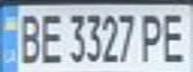2: (100, 10, 121, 63)
3: (63, 10, 87, 64), (81, 9, 103, 63)
7: (118, 9, 139, 63)
B: (12, 9, 45, 65)
E: (157, 8, 193, 64), (36, 8, 63, 65)
P: (136, 9, 169, 63)
